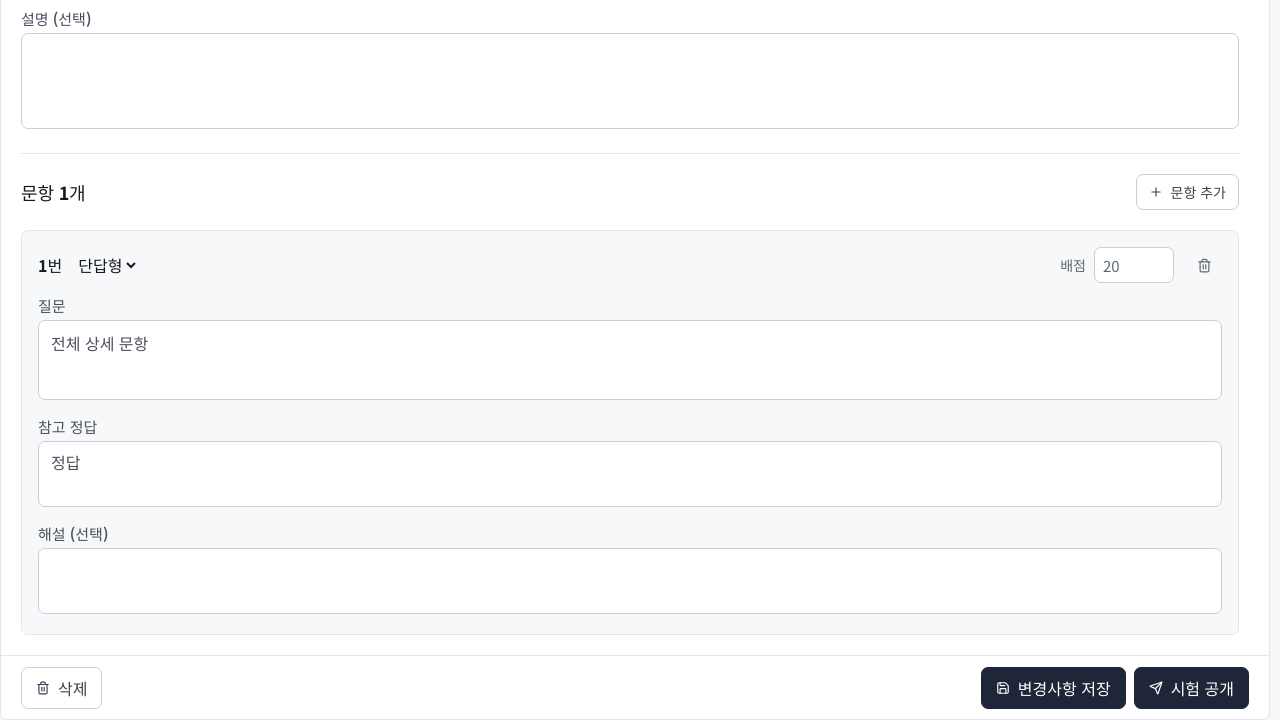
Test case: ExamContentPanel › shows the published state on the same panel after a successful publish
(page scrolled)
Check: the text box showing "전체 상세 문항" is shown, box [38,320,1222,400]
Click the button "시험 공개": [1191, 688] box [1134,666,1249,708]
(page scrolled)
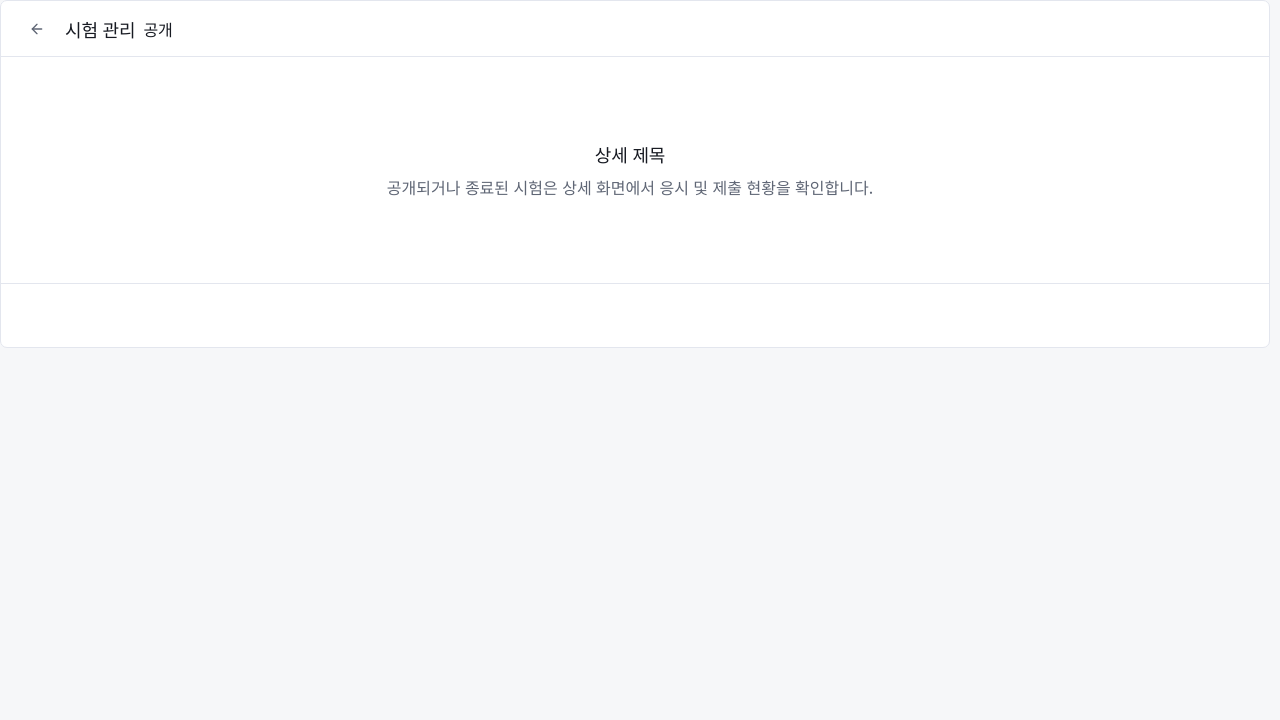
Check: the text "공개되거나 종료된 시험은 상세 화면에서 응시 및 제출 현황을 확인합니다." is shown, box [387,175,873,199]
